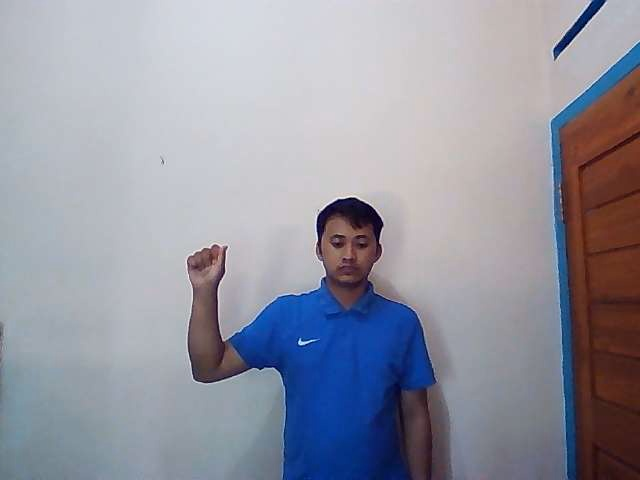A: (186, 244, 229, 292)
